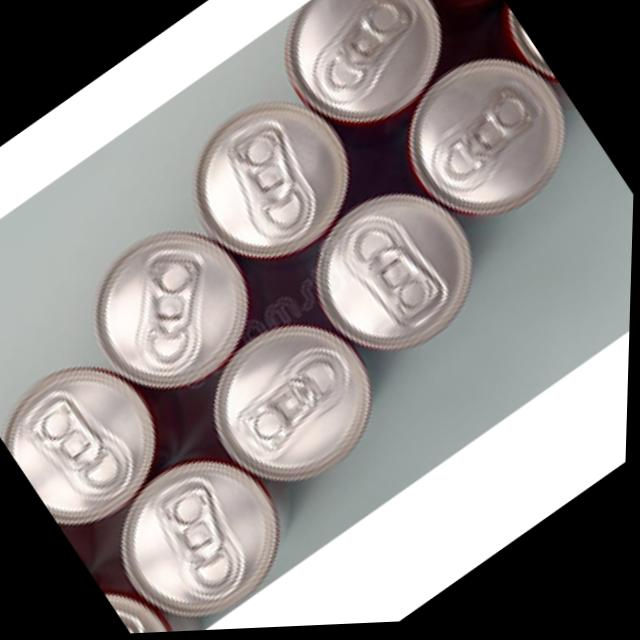aluminum_soda_cans: (281, 164, 510, 394), (67, 196, 283, 418), (190, 296, 409, 512), (90, 428, 315, 636), (172, 77, 377, 285), (391, 41, 596, 245), (0, 334, 186, 540), (261, 0, 473, 158)
